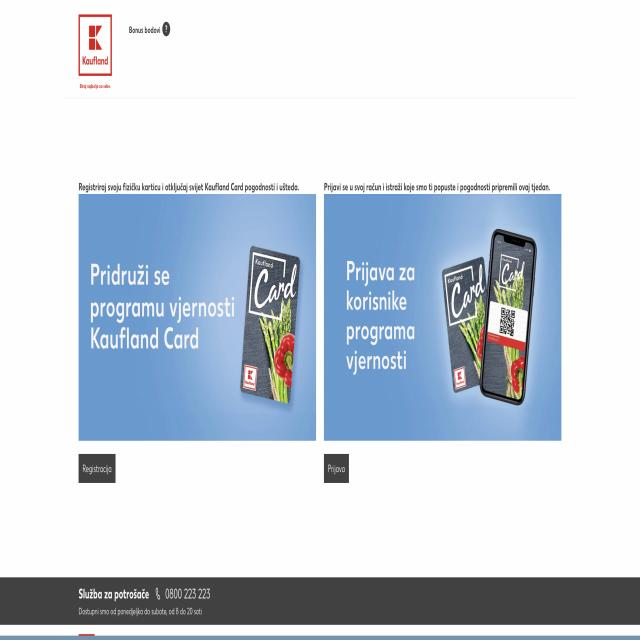Logo: (76, 13, 113, 70)
